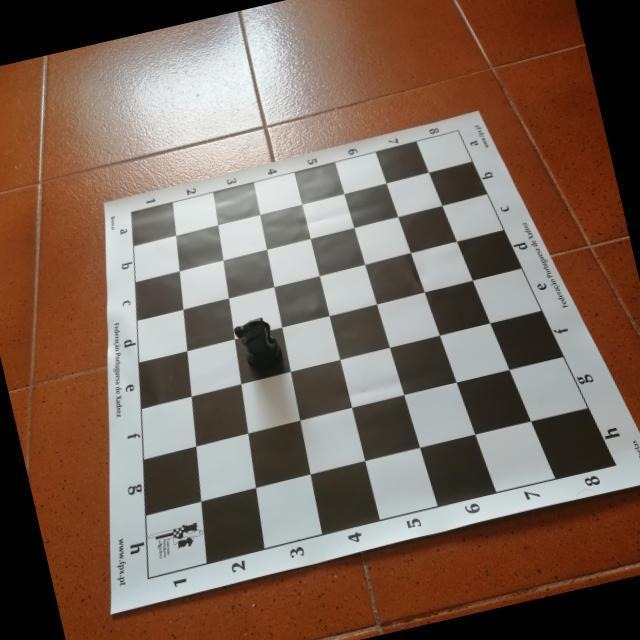black-knight: (231, 313, 285, 375)
